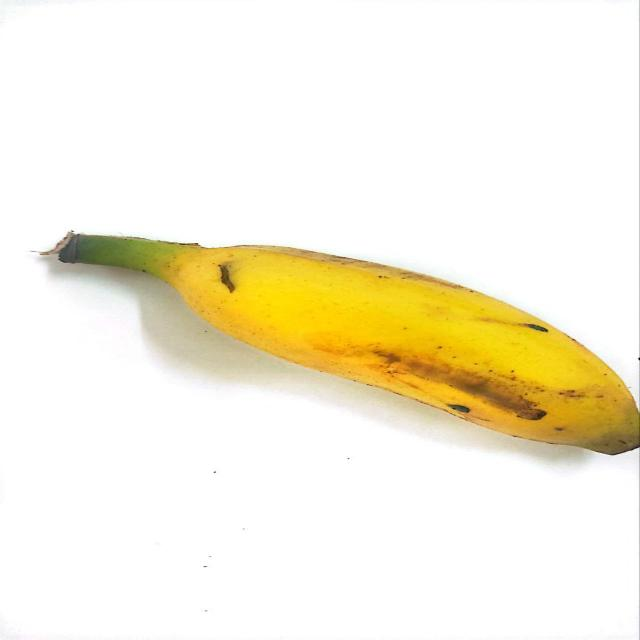fresh_banana: (41, 233, 630, 453)
